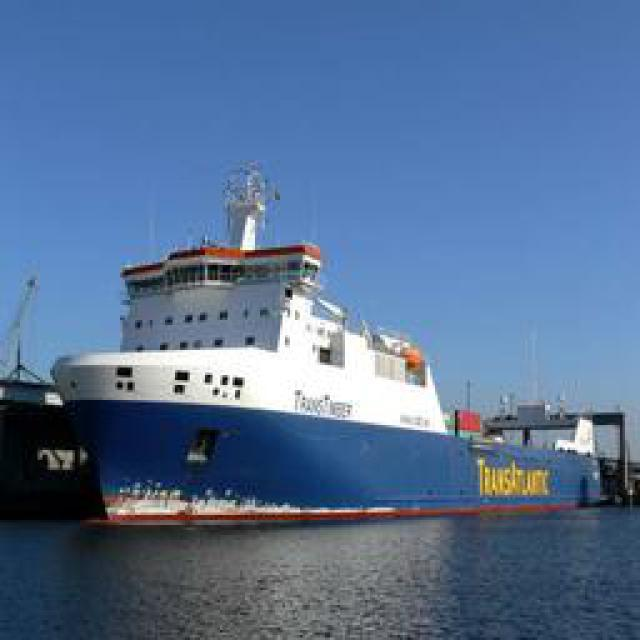Ship: (52, 161, 525, 516)
